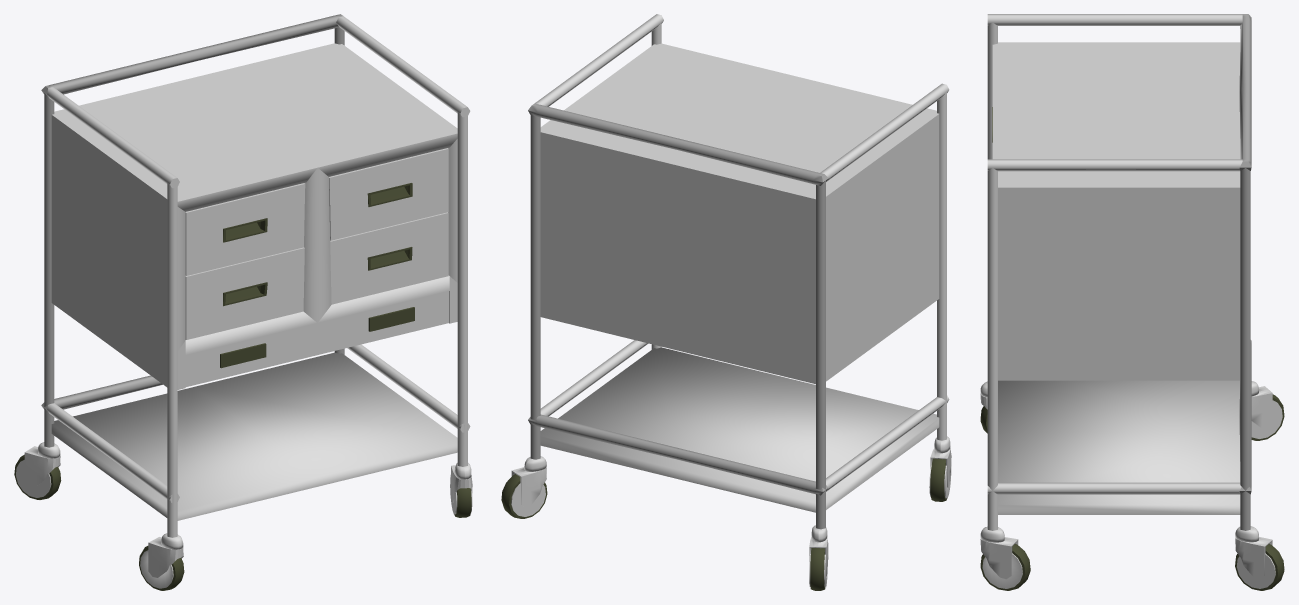
The model's file is StoresContainer.fbx.
3 renders of one model, left to right at view 1: azimuth 30°, elevation 25°; view 2: azimuth 150°, elevation 25°; view 3: azimuth 270°, elevation 25°, orthographic. The views are drawn at different scales.
Parts seen in each view (by area): view 1: StoresContainer1:Mesh; view 2: StoresContainer1:Mesh; view 3: StoresContainer1:Mesh.
Boxes of the visible parts, box(x1,y1,x2,y2) form: StoresContainer1:Mesh: box(14, 14, 472, 590); StoresContainer1:Mesh: box(501, 14, 951, 590); StoresContainer1:Mesh: box(980, 14, 1284, 590).
Size of the model in its own units: 5.52 by 6.67 by 4.32.
